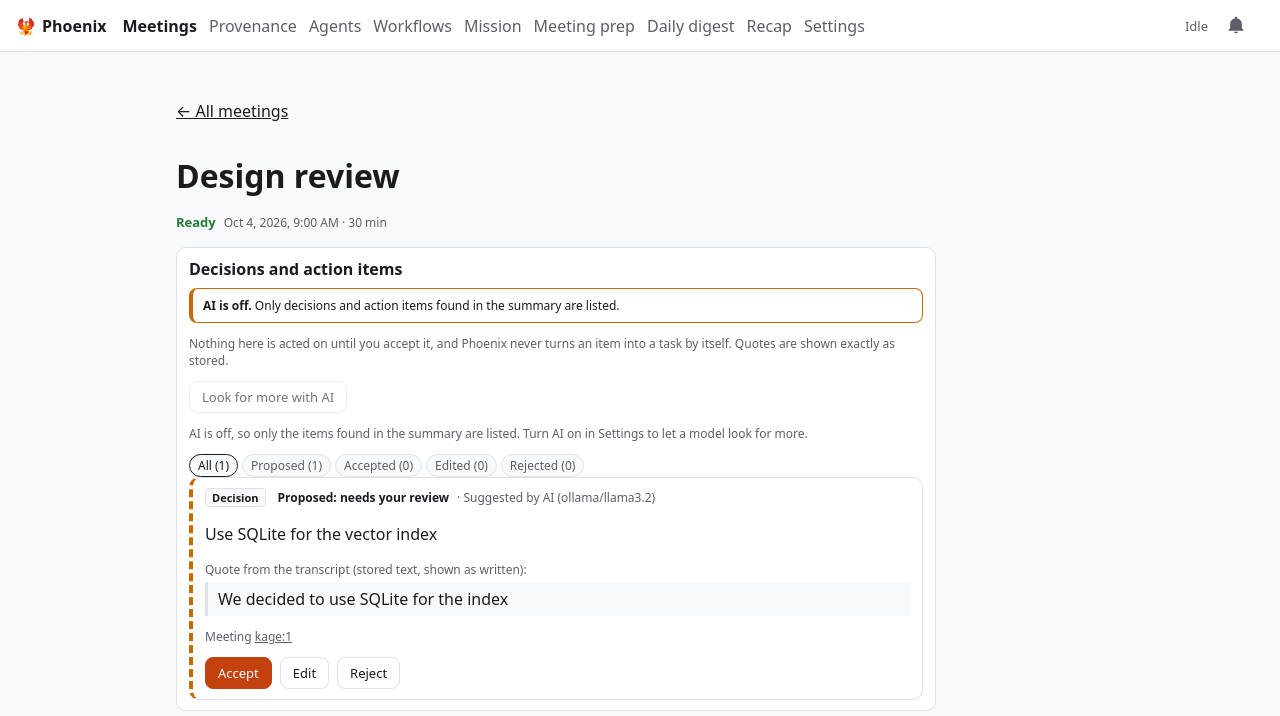
Test case: Decisions and action items of a meeting › says when memory refused an accepted item
The image size is (1280, 716).
Step 1. Click the button with aria-label "Accept decision" → (238, 673), box [205,657,272,689]
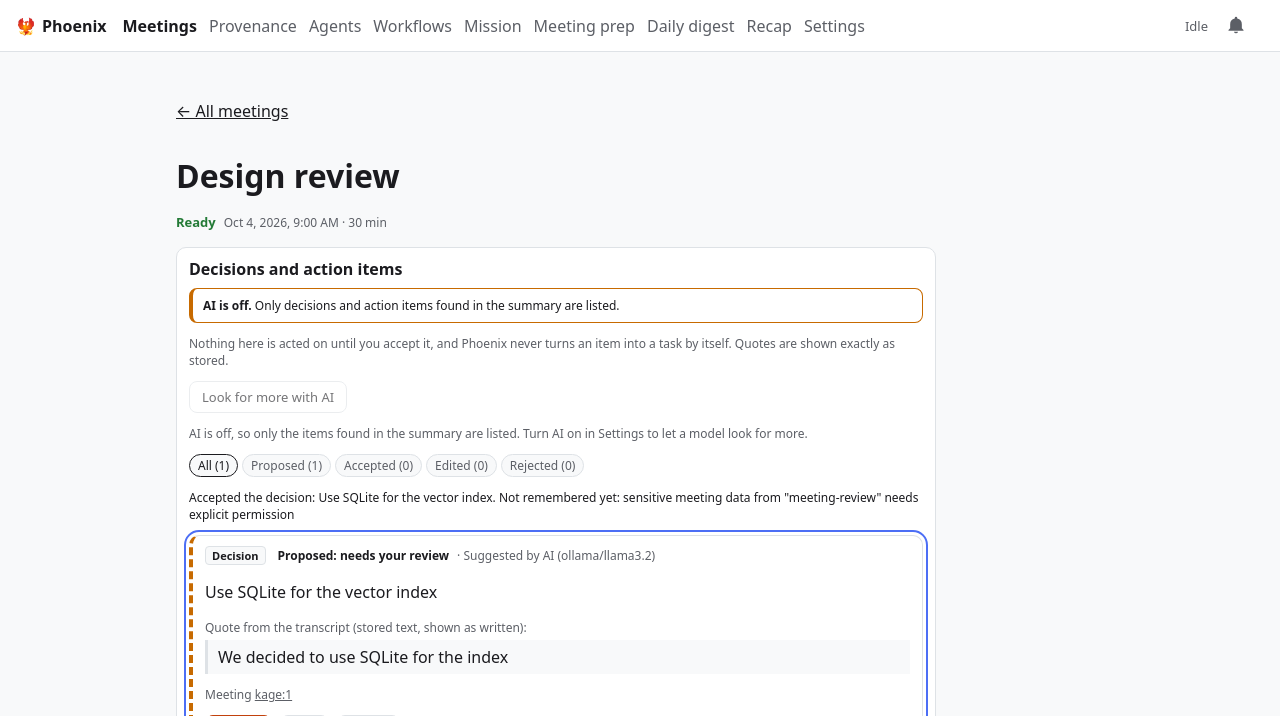
Expected: the text "Not remembered yet: sensitive meeting data" is shown, [189,489,918,523]
